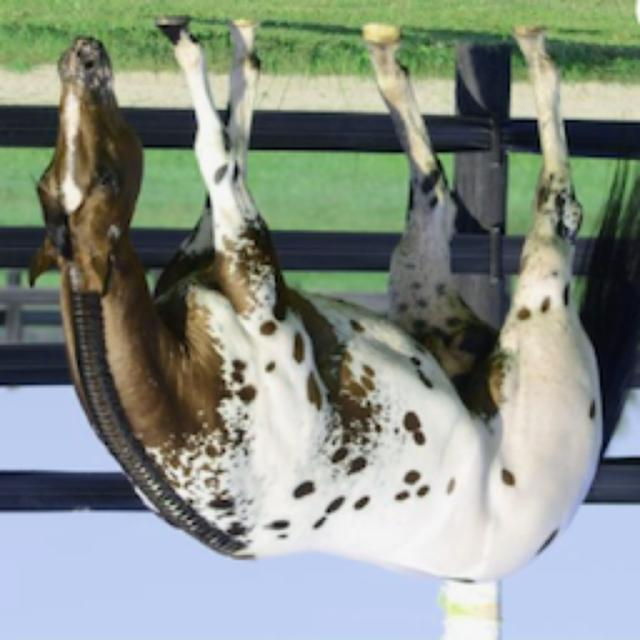Horse: (22, 10, 638, 590)
